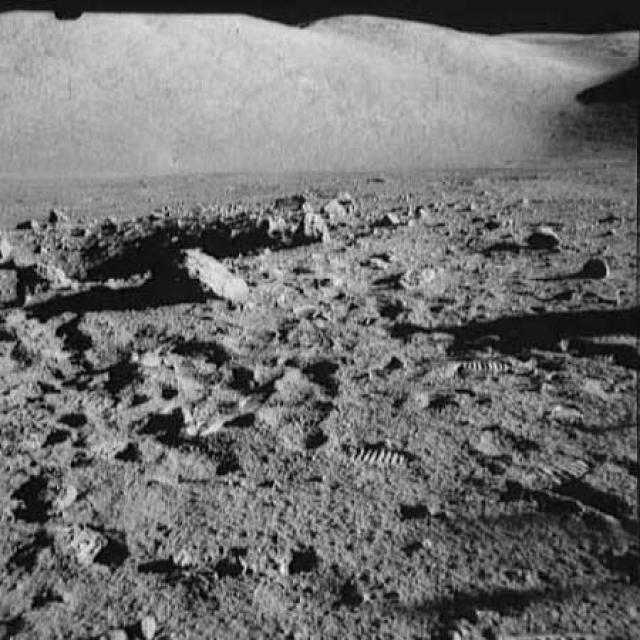crater: (0, 212, 274, 268)
rock: (154, 237, 249, 307), (277, 201, 323, 244), (316, 186, 360, 222), (519, 221, 563, 254), (574, 251, 612, 282), (379, 204, 406, 227)
